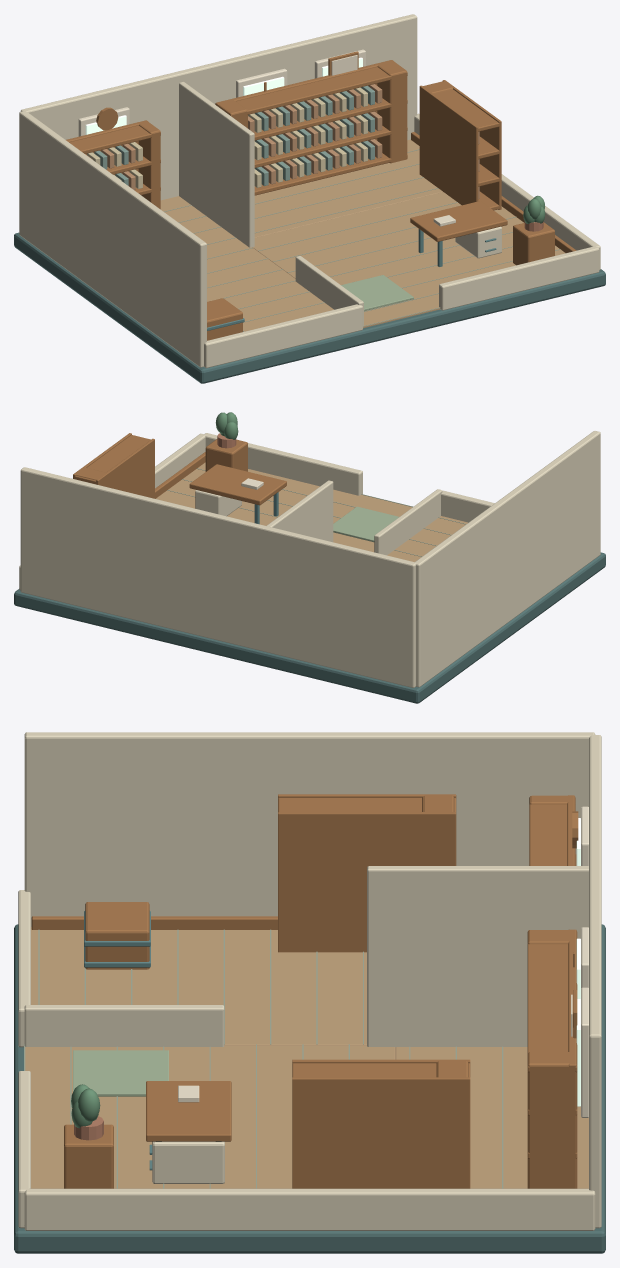
Rendered from interior-library.glb.
3 renders of one model, top to bottom at view 1: azimuth 30°, elevation 25°; view 2: azimuth 150°, elevation 25°; view 3: azimuth 270°, elevation 25°, orthographic. The views are drawn at different scales.
Visible parts, largest first — view 1: Surface Warm plaster, Surface Oak floor, Surface Honey oak, Interior plinth, Surface Book1, Surface Book2, Surface Book0, Surface Floor seam, Surface Linen, Welcome rug, Surface Daylight, Surface Steel (+1 smaller); view 2: Surface Warm plaster, Interior plinth, Surface Honey oak, Surface Oak floor, Welcome rug, Surface Houseplant, Surface Floor seam; view 3: Surface Warm plaster, Surface Honey oak, Surface Oak floor, Interior plinth, Welcome rug, Surface Linen, Surface Floor seam, Surface Steel, Surface Houseplant, Surface Daylight.
Part boxes in pixels (<box>): Surface Warm plaster: <box>19,14,600,368</box>; Surface Oak floor: <box>160,139,565,331</box>; Surface Honey oak: <box>66,51,576,340</box>; Interior plinth: <box>14,232,605,383</box>; Surface Book1: <box>85,84,479,198</box>; Surface Book2: <box>87,87,367,188</box>; Surface Book0: <box>94,85,374,185</box>; Surface Floor seam: <box>164,149,560,326</box>; Surface Linen: <box>78,49,455,226</box>; Welcome rug: <box>341,275,413,310</box>; Surface Daylight: <box>85,57,362,134</box>; Surface Steel: <box>207,229,496,331</box>; Surface Warm plaster: <box>19,431,600,687</box>; Interior plinth: <box>14,499,605,703</box>; Surface Honey oak: <box>73,433,286,505</box>; Surface Oak floor: <box>156,462,467,561</box>; Welcome rug: <box>333,506,398,542</box>; Surface Houseplant: <box>215,412,238,439</box>; Surface Floor seam: <box>167,468,466,556</box>; Surface Warm plaster: <box>18,732,601,1230</box>; Surface Honey oak: <box>31,794,578,1188</box>; Surface Oak floor: <box>25,927,588,1188</box>; Interior plinth: <box>14,924,605,1253</box>; Welcome rug: <box>73,1050,168,1096</box>; Surface Linen: <box>178,806,588,1117</box>; Surface Floor seam: <box>24,929,503,1225</box>; Surface Steel: <box>84,911,221,1170</box>; Surface Houseplant: <box>71,1084,100,1128</box>; Surface Daylight: <box>576,818,580,1106</box>.
Size of the model in its own units: 10.3 by 3.33 by 8.3.
